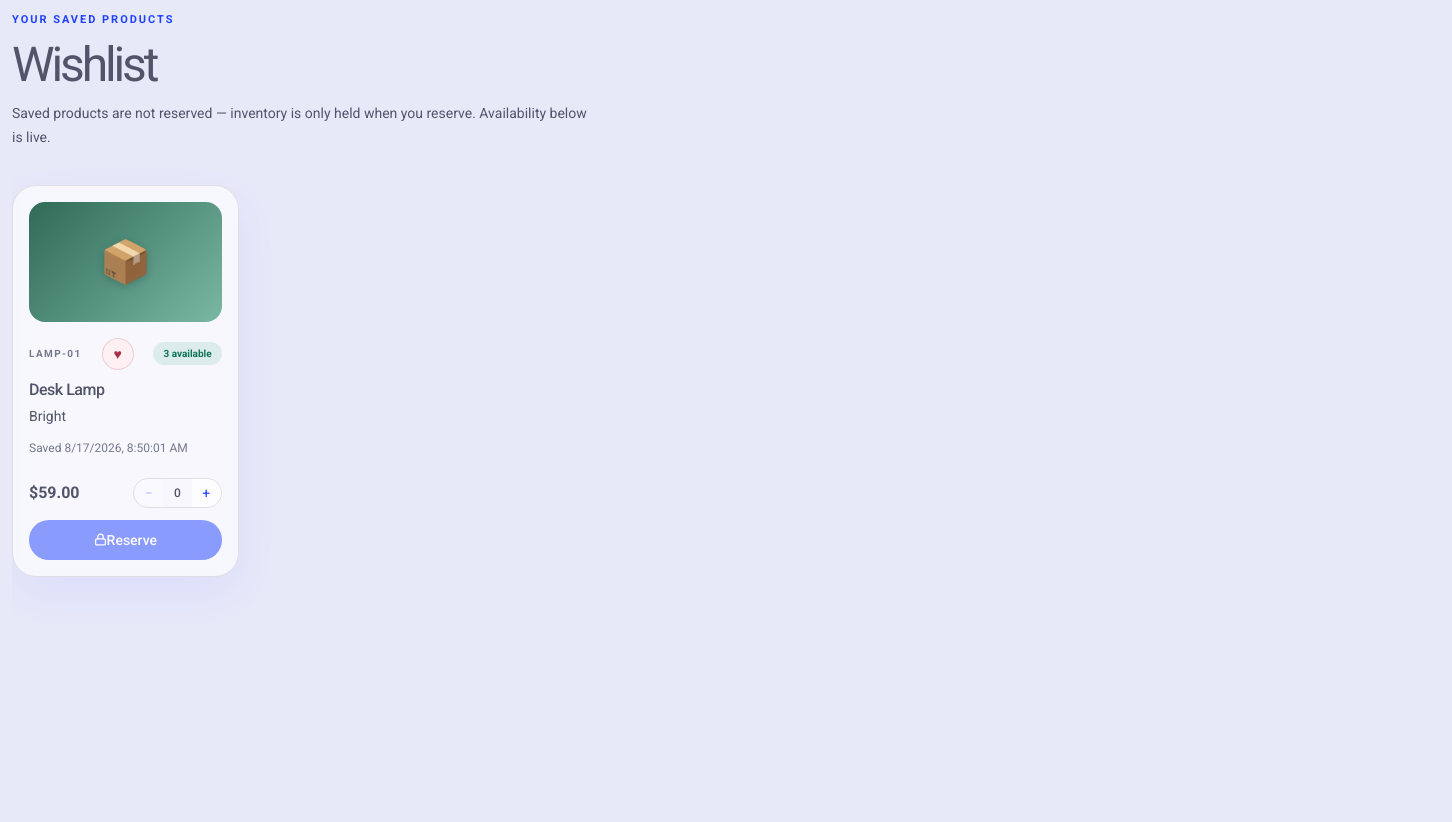
Scenario: CustomerWishlist › shows the server availability message when a reserve fails
Expected: the heading "Desk Lamp" is shown, top-left (29, 380), bottom-right (104, 399)
Click the button named "Add one Desk Lamp": click(206, 493) top-left (192, 479), bottom-right (221, 507)
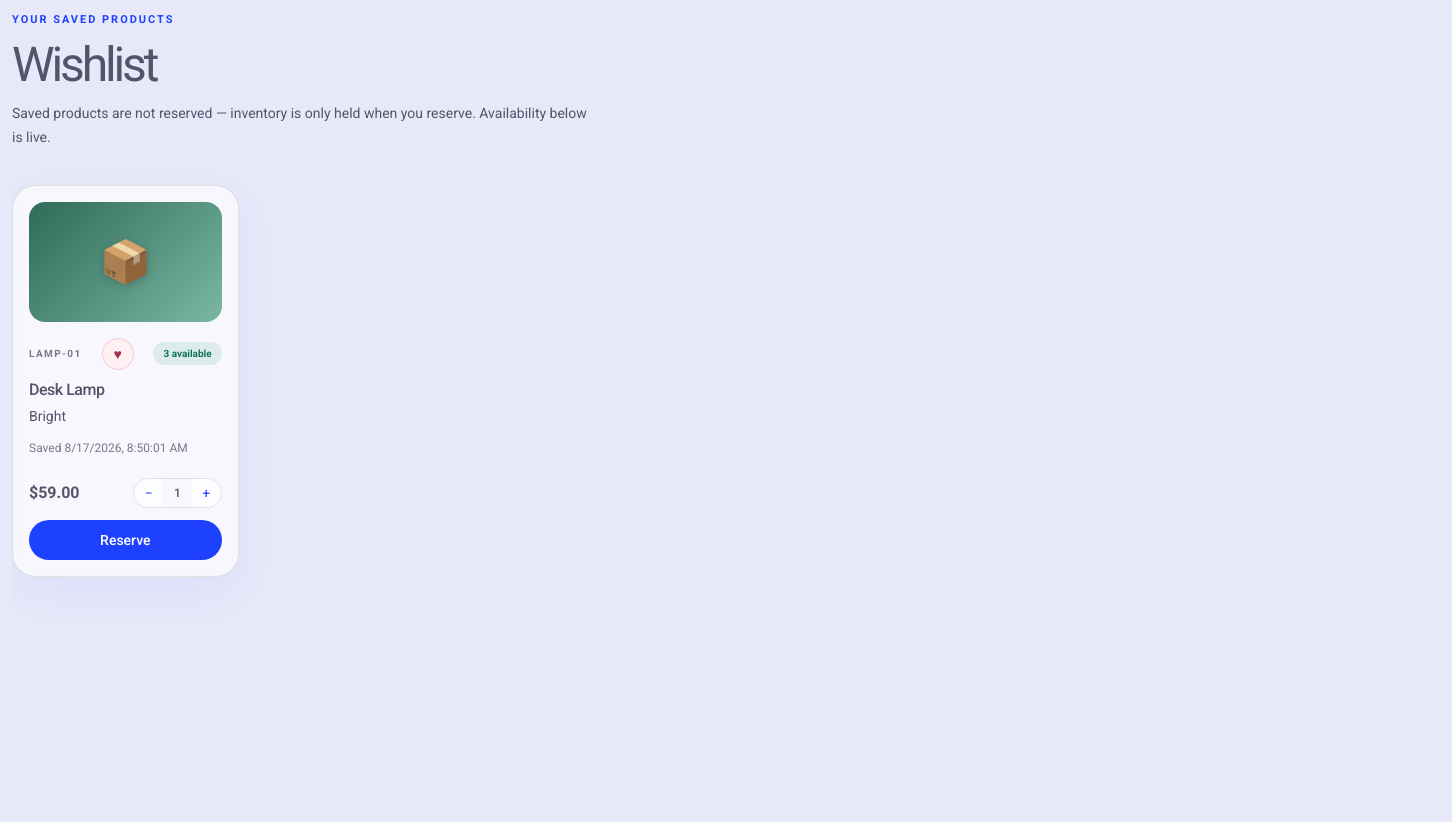
Click the button "Reserve": click(125, 540) top-left (29, 520), bottom-right (222, 560)
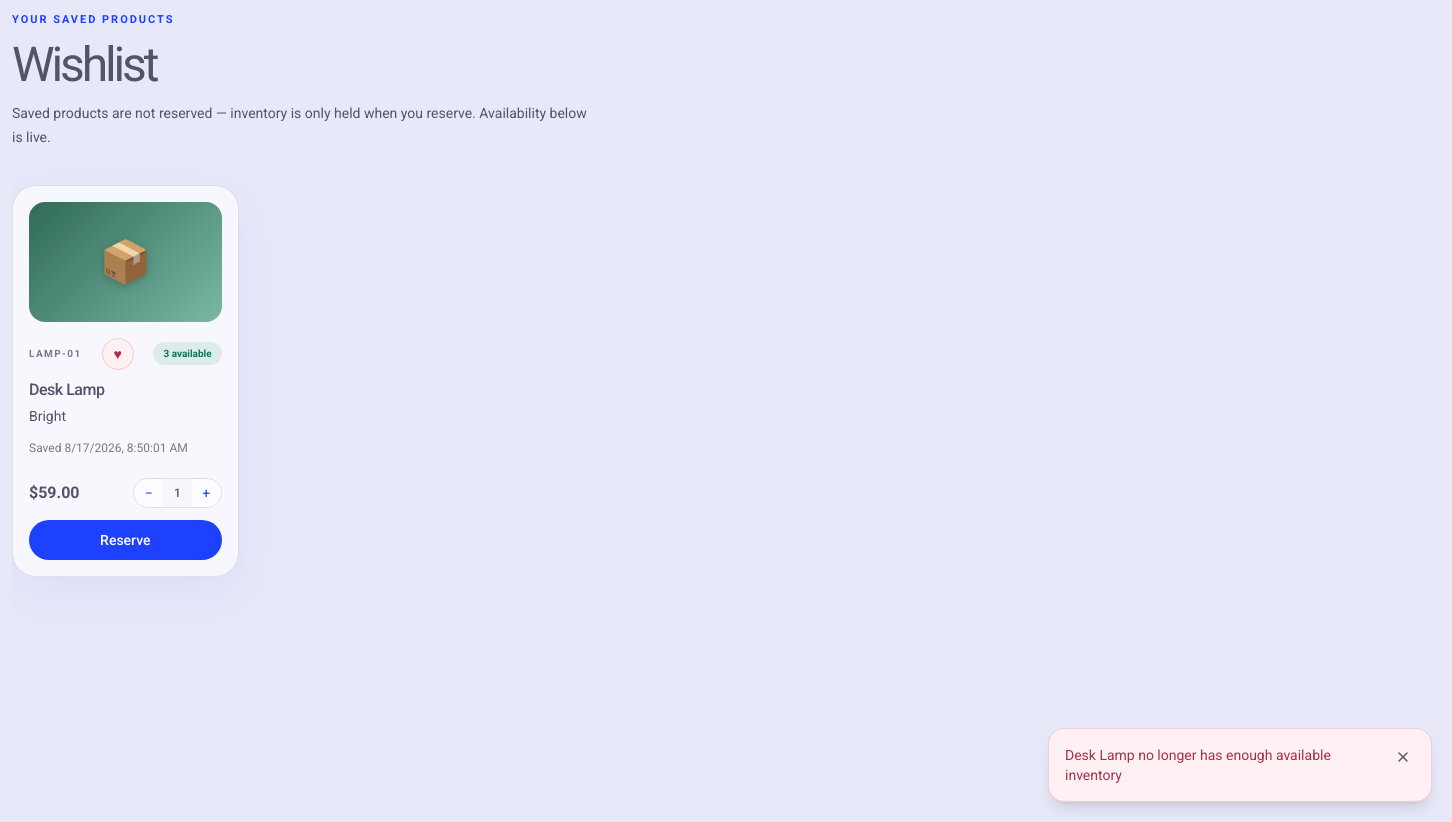
Now the text "Desk Lamp no longer has enough available inventory" is shown, box top-left (1065, 745), bottom-right (1371, 785)
